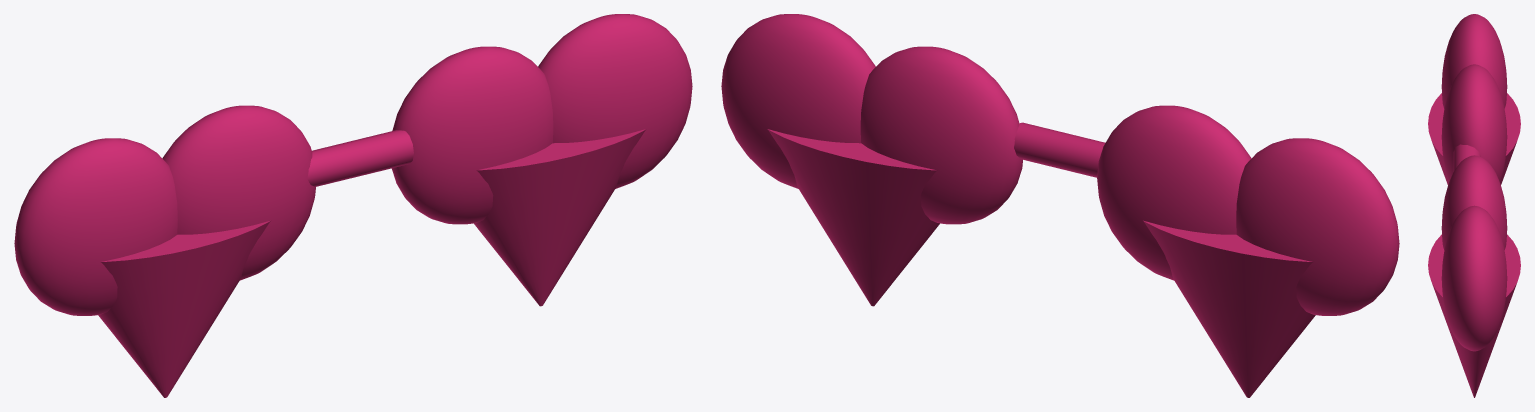
Rendered from heart_sunglasses.fbx.
3 renders of one model, left to right at view 1: azimuth 30°, elevation 25°; view 2: azimuth 150°, elevation 25°; view 3: azimuth 270°, elevation 25°, orthographic. The views are drawn at different scales.
Visible parts, largest first — view 1: Sphere047, Sphere049, Sphere050, Sphere048, Cone010, Cone009, Cylinder021; view 2: Sphere047, Sphere049, Sphere048, Sphere050, Cone010, Cone009, Cylinder021; view 3: Sphere050, Sphere048, Sphere049, Sphere047, Cone010, Cone009, Cylinder021.
Boxes of the visible parts, x1=… form: Sphere047: x1=14, y1=138, x2=177, y2=315; Sphere049: x1=391, y1=46, x2=553, y2=224; Sphere050: x1=538, y1=14, x2=692, y2=188; Sphere048: x1=162, y1=105, x2=315, y2=280; Cone010: x1=474, y1=129, x2=646, y2=306; Cone009: x1=98, y1=220, x2=270, y2=397; Cylinder021: x1=307, y1=130, x2=413, y2=186; Sphere047: x1=1236, y1=138, x2=1399, y2=315; Sphere049: x1=860, y1=46, x2=1022, y2=224; Sphere048: x1=1097, y1=105, x2=1251, y2=280; Sphere050: x1=721, y1=14, x2=875, y2=188; Cone010: x1=767, y1=129, x2=939, y2=306; Cone009: x1=1143, y1=220, x2=1315, y2=397; Cylinder021: x1=1014, y1=122, x2=1105, y2=177; Sphere050: x1=1441, y1=205, x2=1507, y2=351; Sphere048: x1=1441, y1=64, x2=1507, y2=181; Sphere049: x1=1441, y1=155, x2=1507, y2=249; Sphere047: x1=1441, y1=14, x2=1507, y2=108; Cone010: x1=1428, y1=234, x2=1520, y2=397; Cone009: x1=1428, y1=93, x2=1520, y2=184; Cylinder021: x1=1453, y1=144, x2=1480, y2=171.
Bounding box in the file's own units: 8.6 × 3.32 × 1.33.
